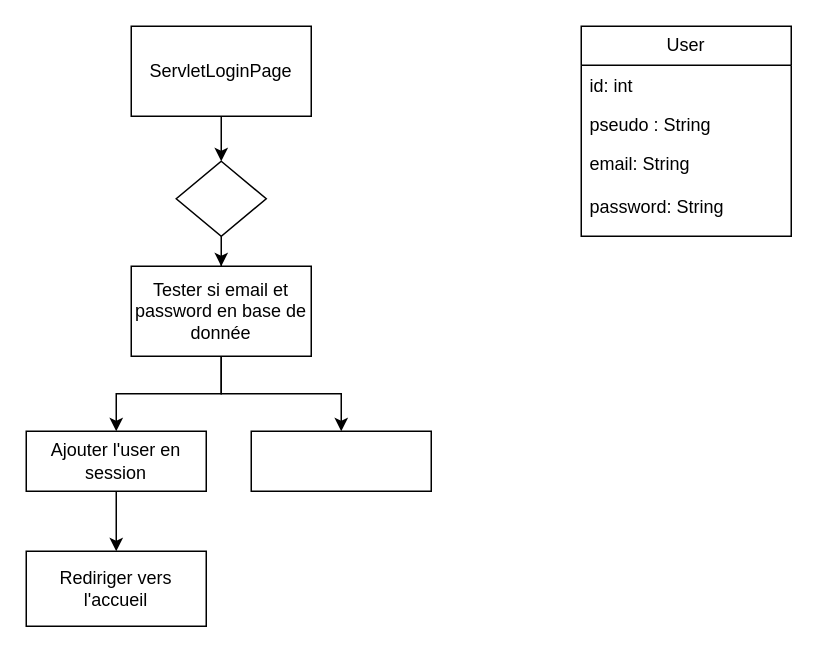
Image size: 818x653. Some labels were removed from this diagram. Each missing label, with the centre of its shape:
Afficher l'erreur dans la page: point 340,460
post: point 220,198
